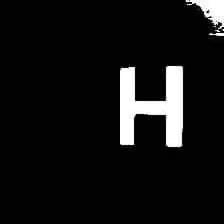LTR_H: (109, 56, 193, 155)
